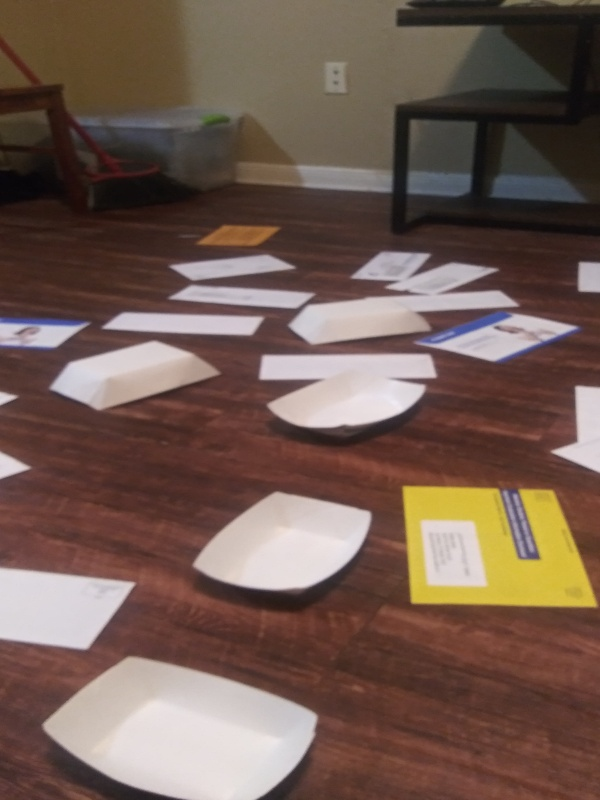plate: (34, 651, 323, 800), (186, 487, 378, 605), (45, 336, 224, 417), (260, 368, 437, 448), (283, 294, 433, 350)
